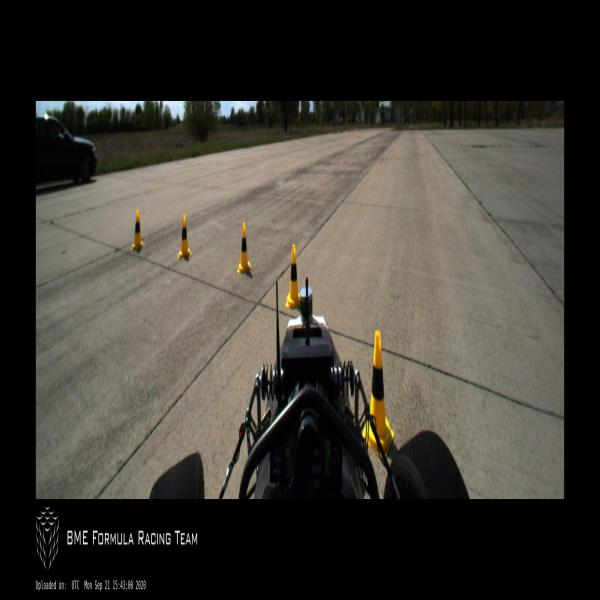yellow_cone: (362, 332, 394, 462), (286, 245, 302, 309), (237, 220, 252, 276), (179, 214, 191, 259), (131, 210, 143, 252)
